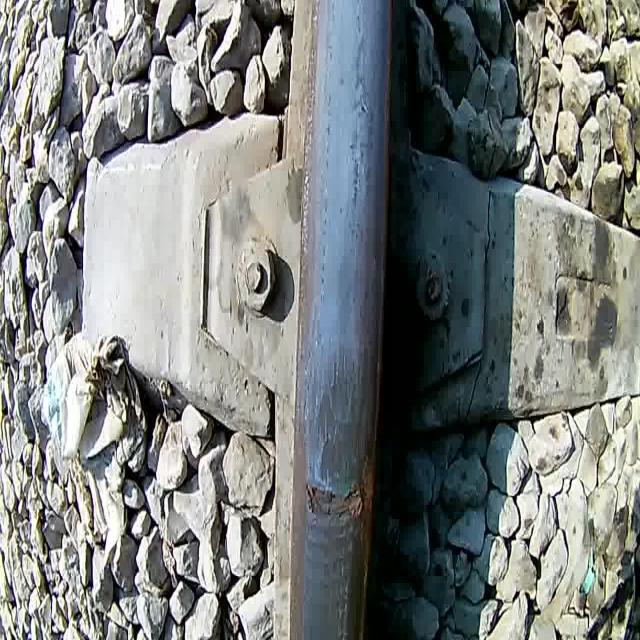Spallings: (296, 470, 372, 530)
Squats: (304, 344, 378, 492), (300, 517, 365, 621)
